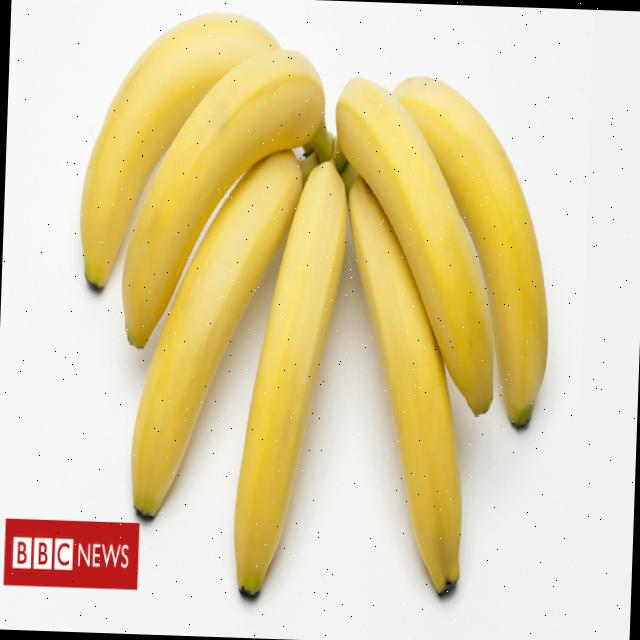Pisang: (67, 6, 560, 606), (118, 41, 333, 356), (128, 142, 304, 524), (379, 72, 557, 428), (323, 73, 504, 417), (332, 171, 474, 596), (76, 6, 282, 297), (230, 152, 350, 600)
